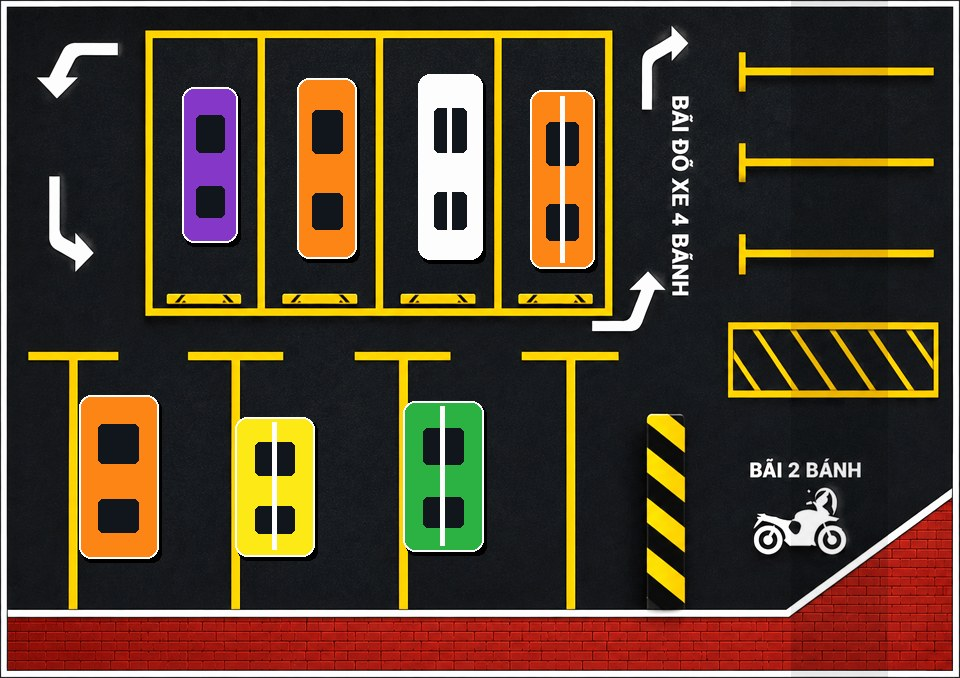empty: (524, 351, 672, 598)
occupied: (35, 351, 199, 598), (360, 351, 518, 598), (201, 351, 357, 598), (148, 35, 267, 309), (267, 35, 386, 309), (386, 35, 505, 309), (505, 35, 624, 309)
